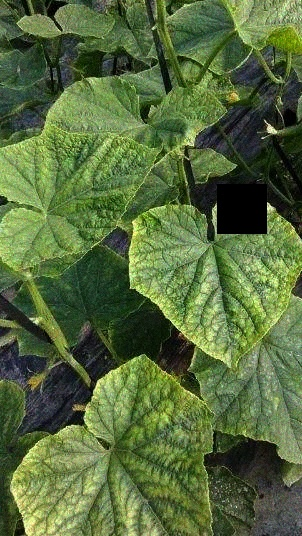cucumber_plant: (2, 113, 294, 354), (21, 356, 210, 536)
